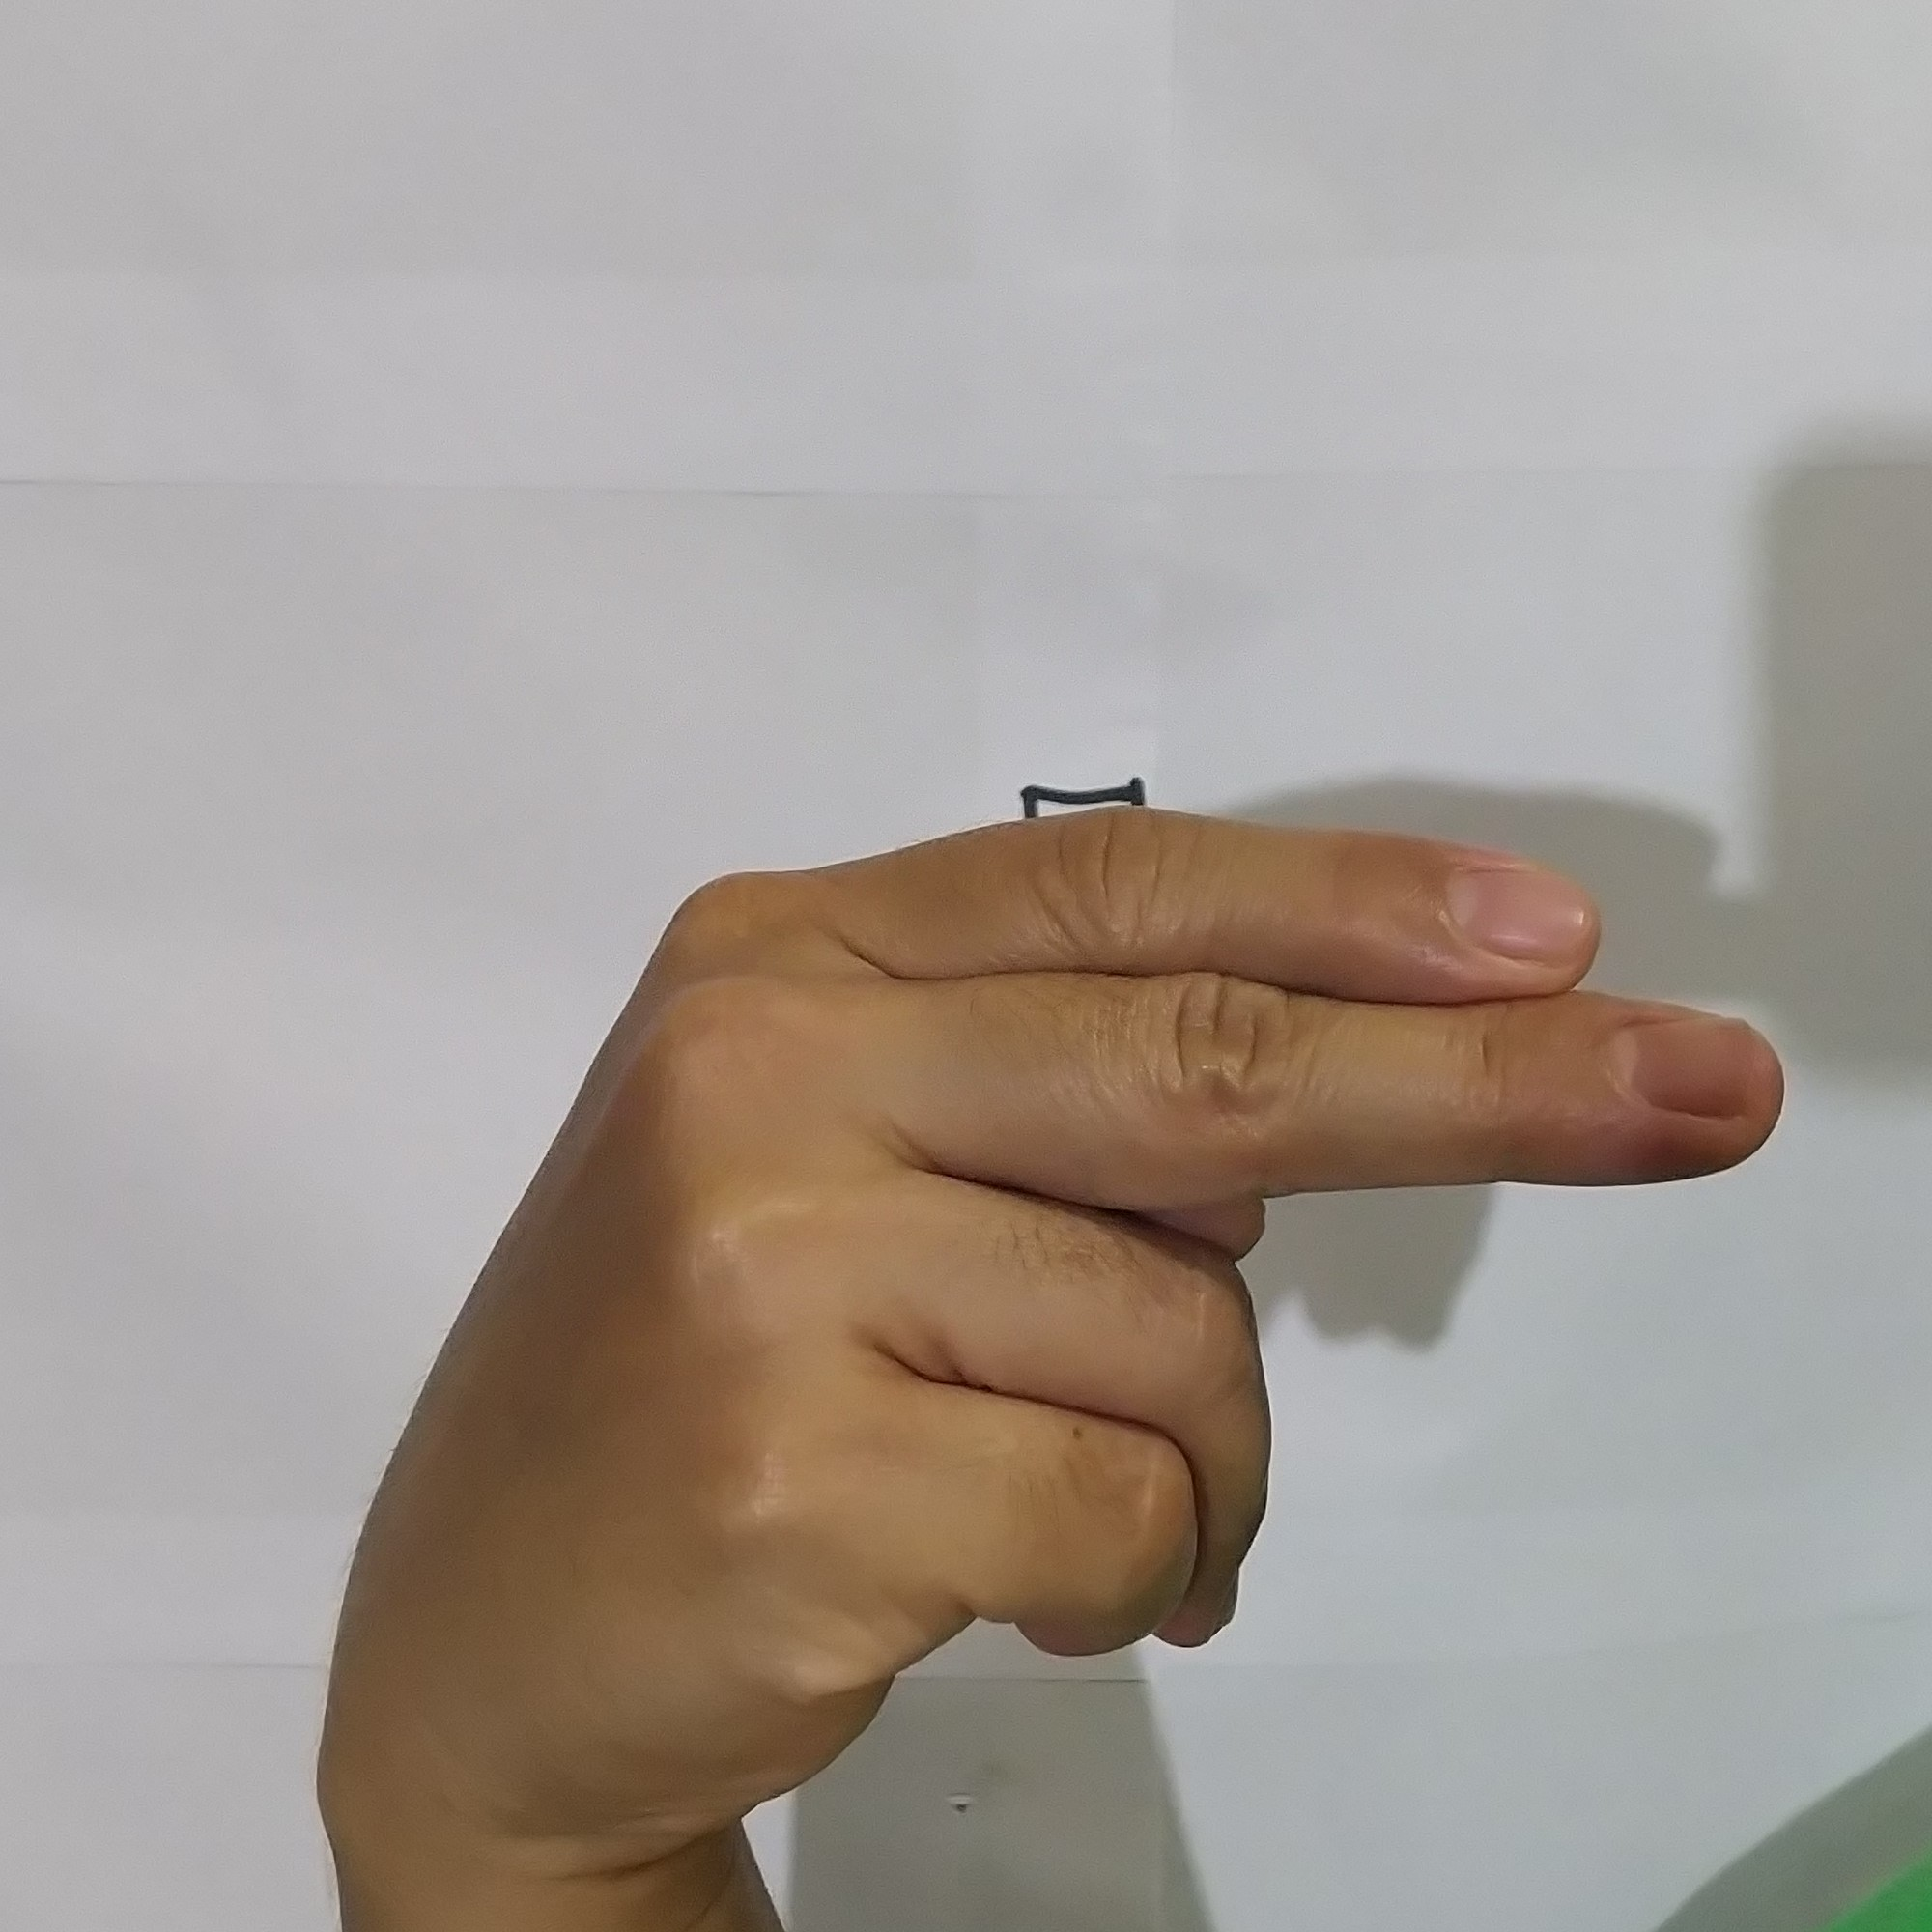H: (317, 763, 1810, 1836)
